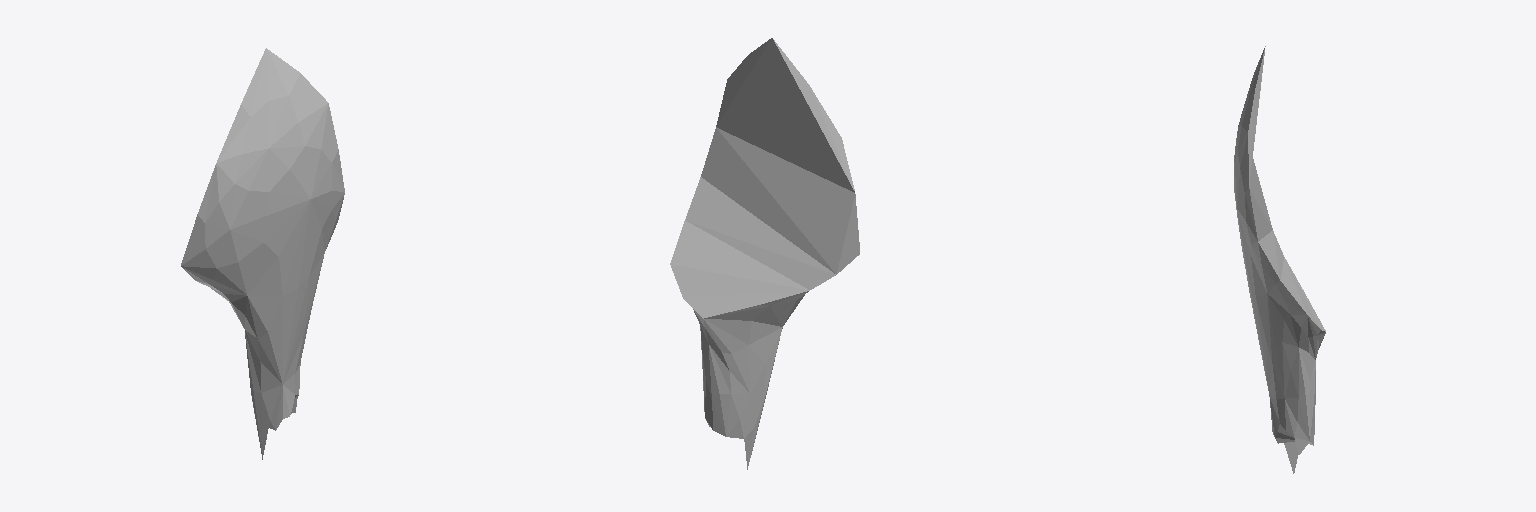
File: Patte_av_R.obj
The picture shows the model from 3 angles: view 1: azimuth 30°, elevation 25°; view 2: azimuth 150°, elevation 25°; view 3: azimuth 270°, elevation 25°; orthographic projection.
Parts seen in each view (by area): view 1: Patte_avant_R; view 2: Patte_avant_R; view 3: Patte_avant_R.
Boxes of the visible parts, x1,y1,x2,y2 form: Patte_avant_R: [181, 48, 344, 459]; Patte_avant_R: [670, 38, 859, 469]; Patte_avant_R: [1234, 46, 1325, 473].
Size of the model in its own units: 1.44 by 3.49 by 0.6909.